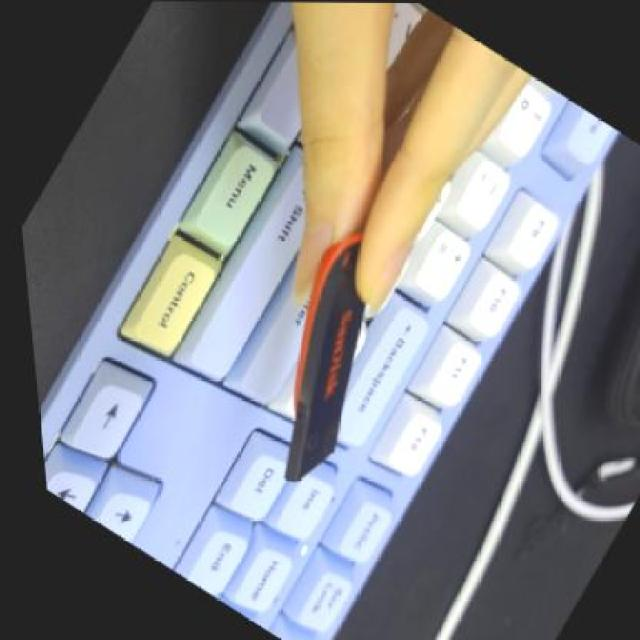Flashdisk: (188, 215, 444, 496)
